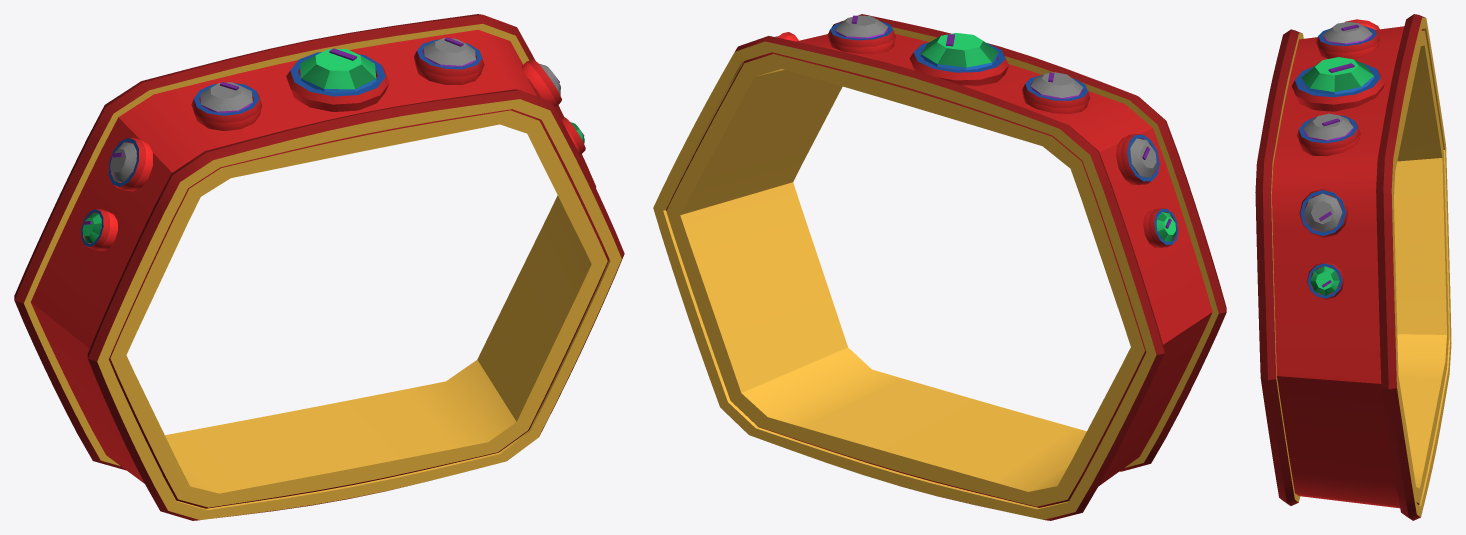
Rendered from Wrist_Gems.fbx.
The picture shows the model from 3 angles, left to right: view 1: azimuth 30°, elevation 25°; view 2: azimuth 150°, elevation 25°; view 3: azimuth 270°, elevation 25°; orthographic projection. The views are drawn at different scales.
Visible parts, largest first — view 1: Wrist_Gems; view 2: Wrist_Gems; view 3: Wrist_Gems.
Part boxes in pixels (box(x1,y1,x2,y2)): Wrist_Gems: box(14, 14, 624, 520); Wrist_Gems: box(653, 14, 1226, 520); Wrist_Gems: box(1255, 14, 1451, 520).
Bounding box in the file's own units: 0.5037 × 0.3731 × 0.1707.
1 material, 1 textured.
